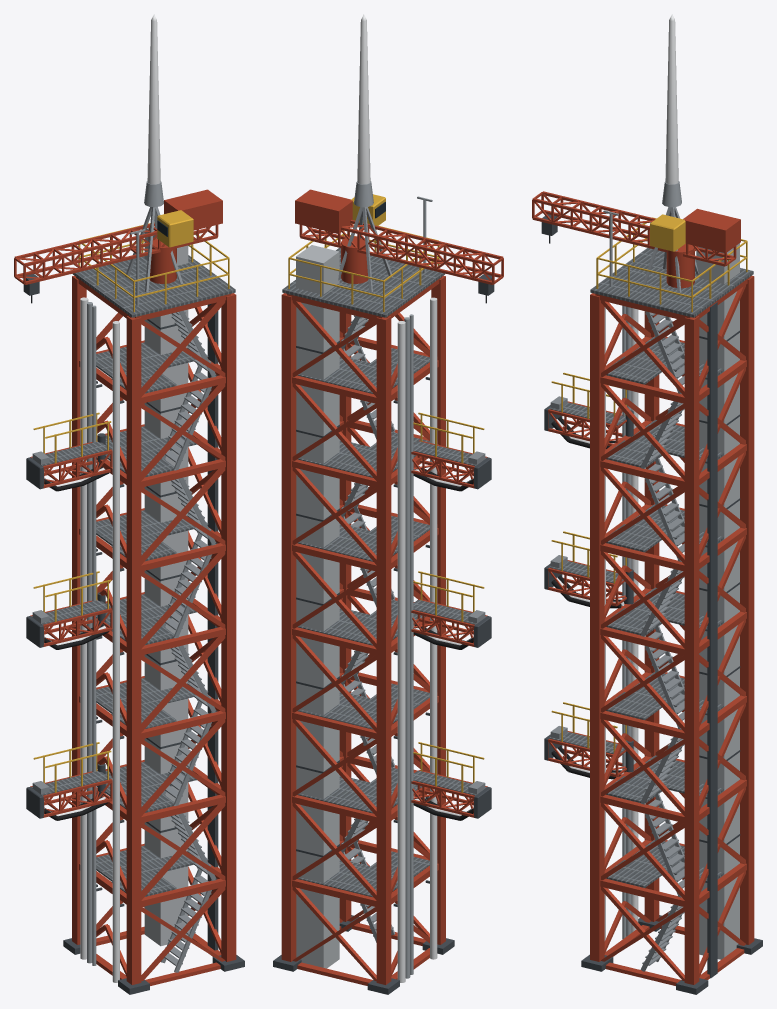
File: tower_fixed.glb
3 renders of one model, left to right at view 1: azimuth 30°, elevation 25°; view 2: azimuth 150°, elevation 25°; view 3: azimuth 330°, elevation 25°, orthographic.
Parts seen in each view (by area): view 1: body, head, pose_arm_1, pose_arm_2, pose_arm_3, top_mast; view 2: body, head, pose_arm_2, pose_arm_1, pose_arm_3, top_mast; view 3: body, head, pose_arm_2, top_mast, pose_arm_1, pose_arm_3.
Part boxes in pixels (left/top/right/bottom): body: left=63, top=222, right=244, bottom=994; head: left=14, top=189, right=235, bottom=317; pose_arm_1: left=26, top=742, right=112, bottom=820; pose_arm_2: left=26, top=571, right=112, bottom=649; pose_arm_3: left=26, top=412, right=112, bottom=491; top_mast: left=125, top=14, right=183, bottom=292; body: left=273, top=225, right=454, bottom=994; head: left=282, top=189, right=503, bottom=317; pose_arm_2: left=411, top=571, right=491, bottom=649; pose_arm_1: left=411, top=742, right=491, bottom=820; pose_arm_3: left=411, top=412, right=491, bottom=491; top_mast: left=338, top=14, right=392, bottom=292; body: left=581, top=217, right=762, bottom=994; head: left=532, top=191, right=753, bottom=317; pose_arm_2: left=544, top=531, right=633, bottom=608; top_mast: left=643, top=14, right=698, bottom=292; pose_arm_1: left=544, top=702, right=633, bottom=779; pose_arm_3: left=544, top=372, right=633, bottom=448.
Size of the model in its own units: 6.73 by 30.9 by 3.95.
11 materials, 1 textured.
